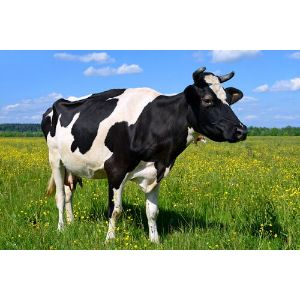cow: (36, 66, 249, 246)
